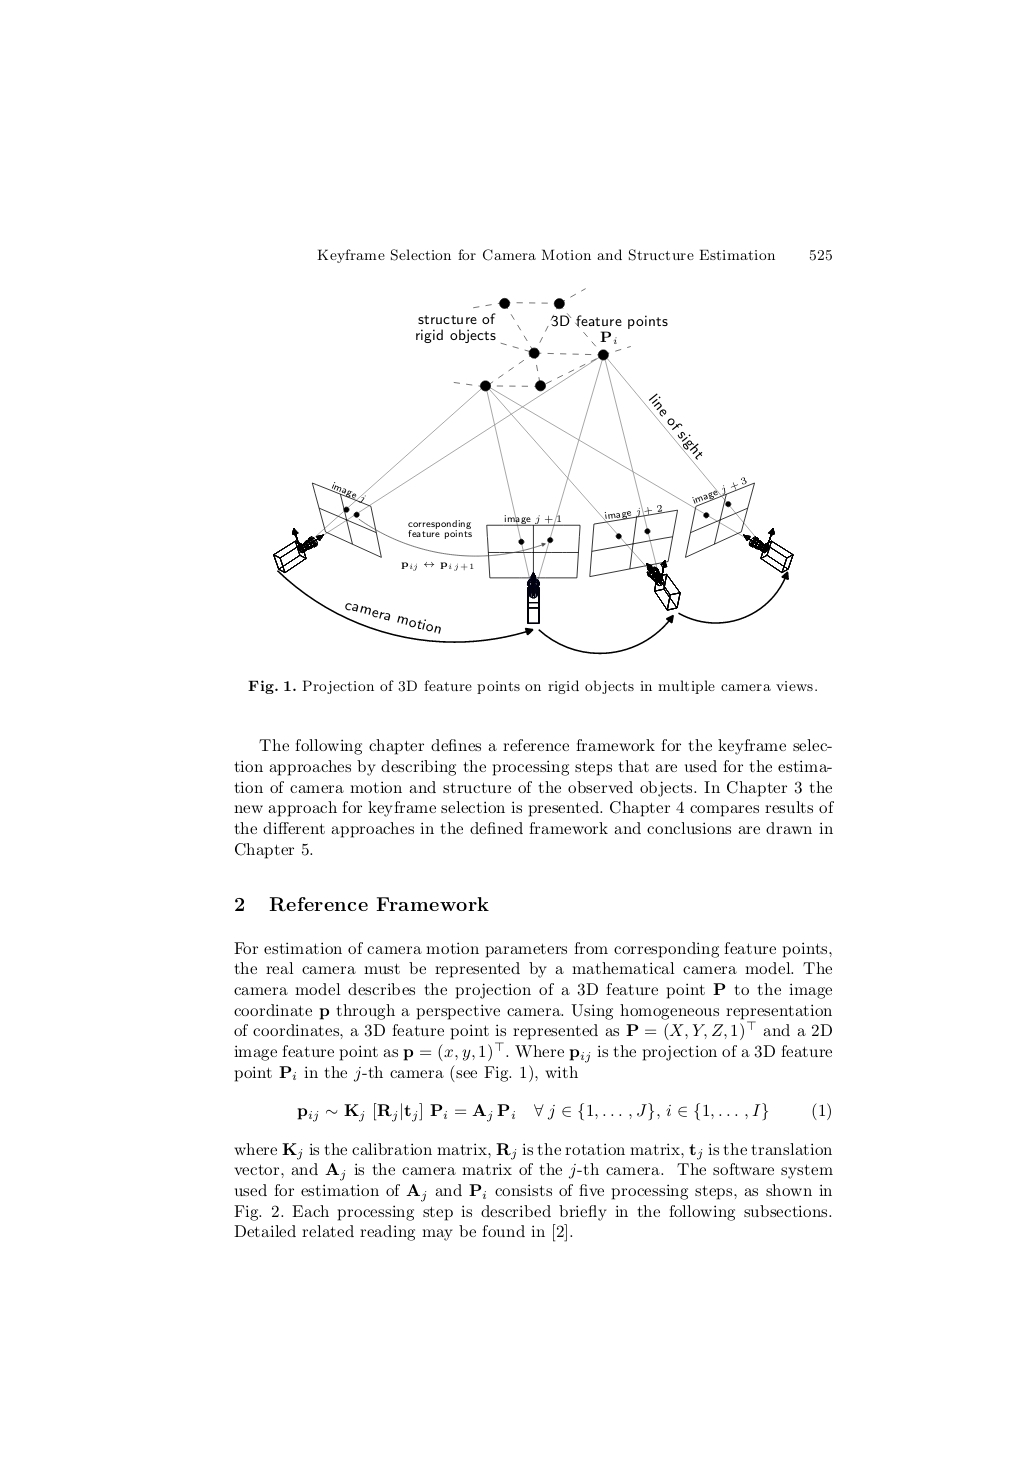figure: (273, 288, 793, 654)
formula: (297, 1101, 830, 1122)
